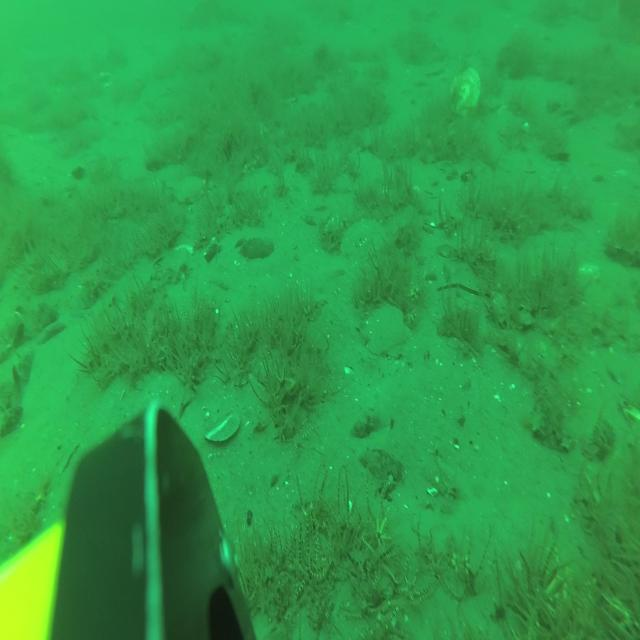scallop: (138, 372, 194, 438), (364, 306, 409, 357), (342, 215, 386, 260), (450, 68, 481, 115), (157, 163, 189, 189), (176, 177, 206, 204)
